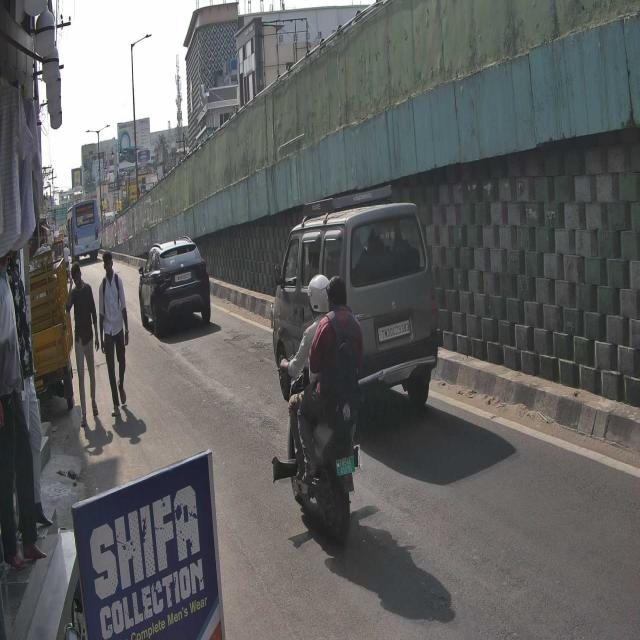double_rider: (276, 269, 364, 548)
